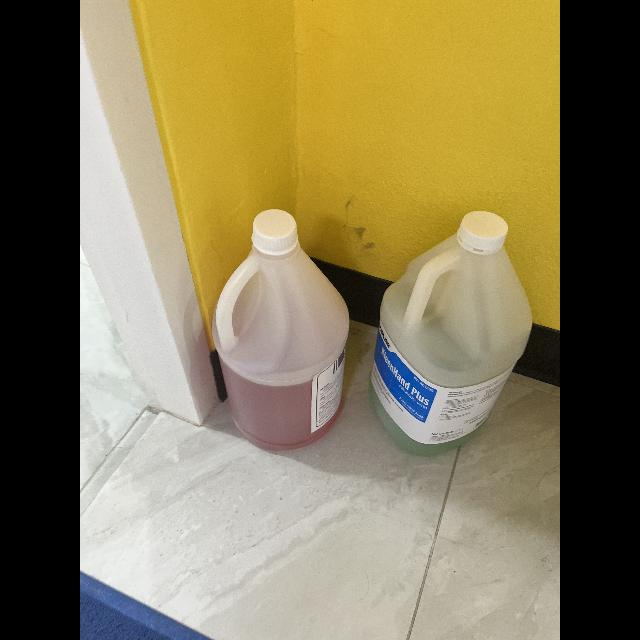chemical_plastic_gallon: (366, 205, 532, 465), (207, 204, 357, 462)
